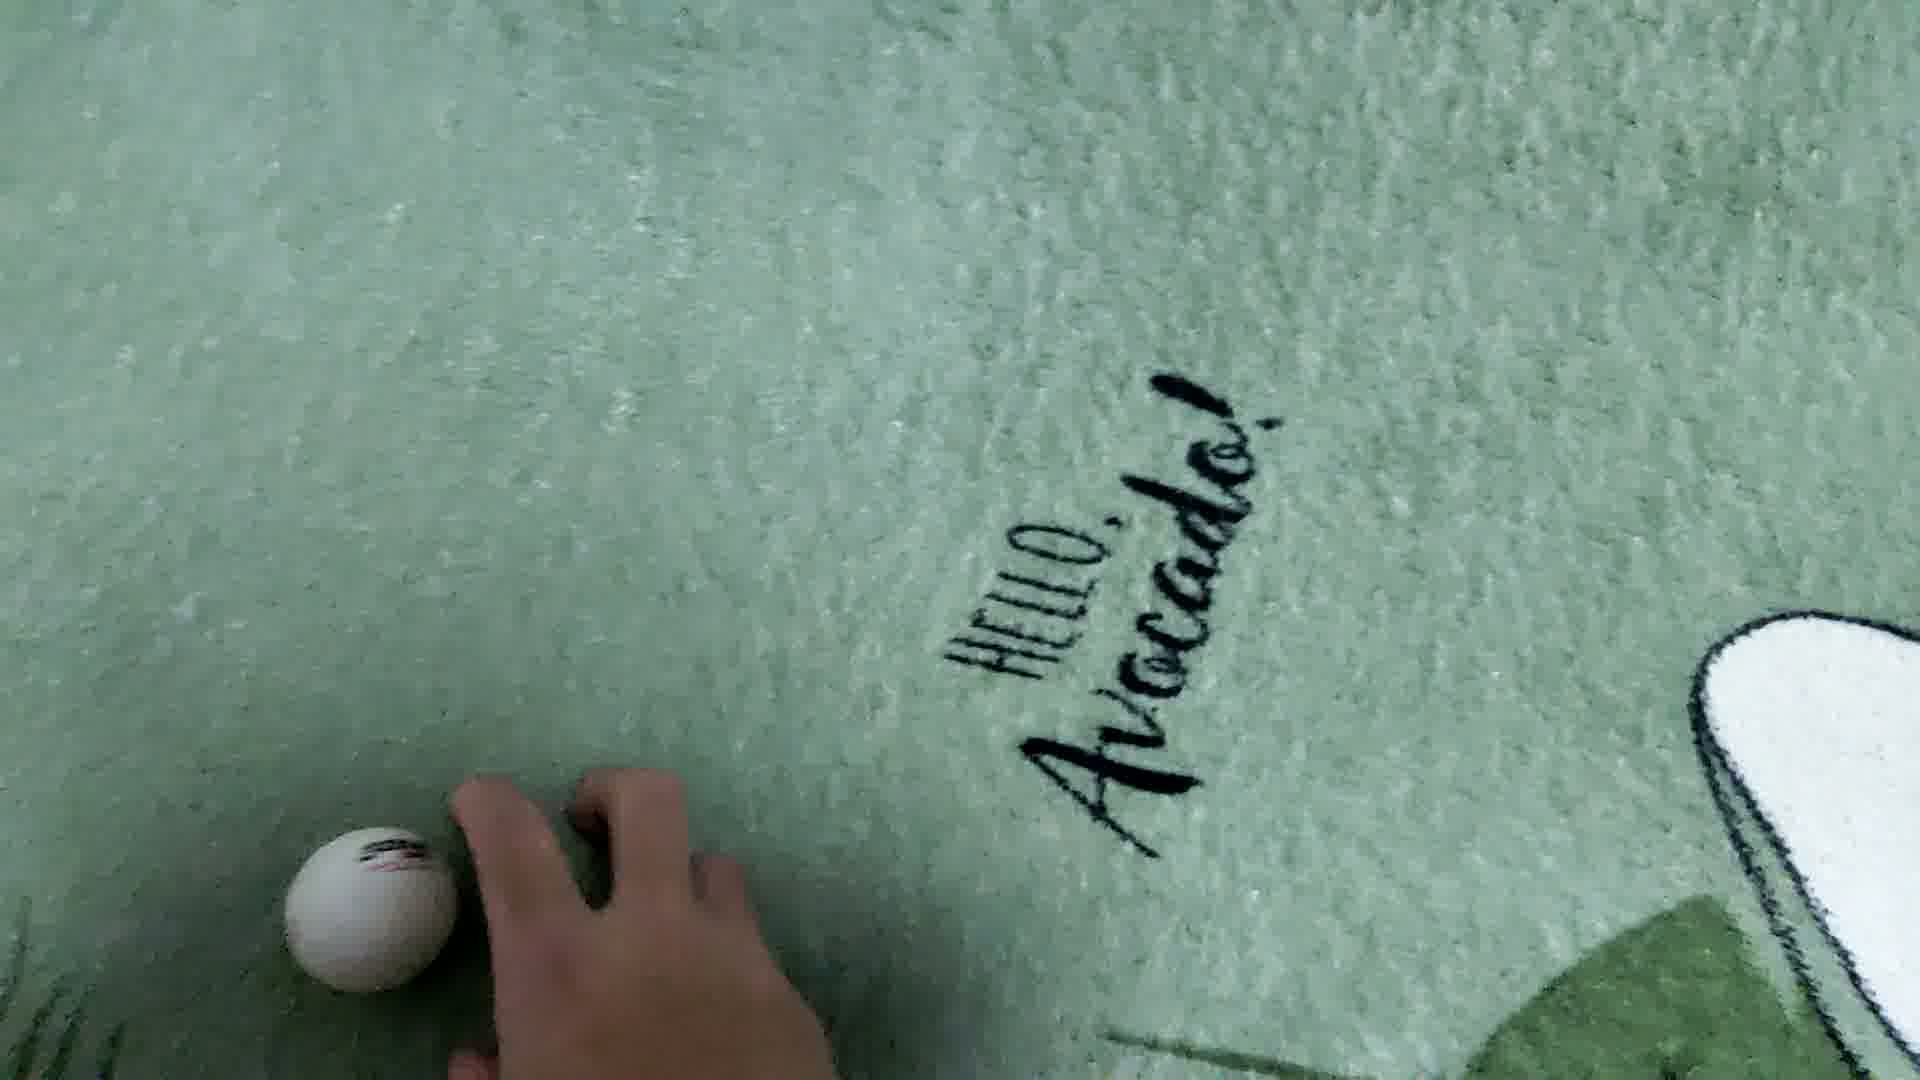Ball: (284, 827, 459, 996)
